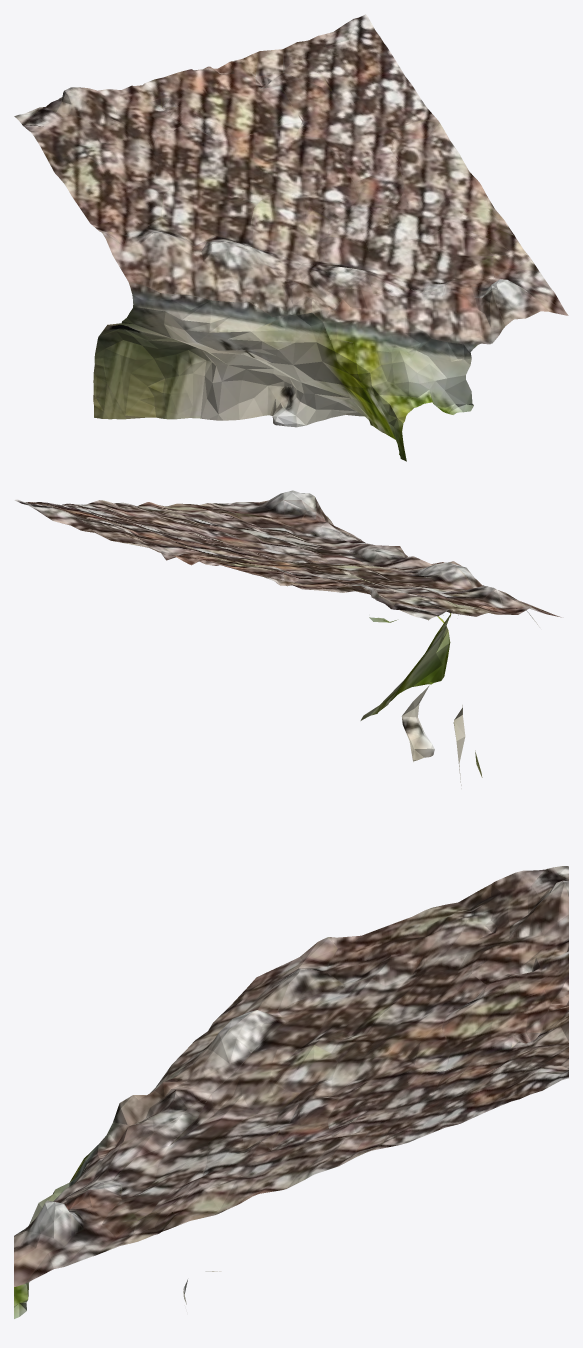
3 views of the same model, one above another, from view 1: azimuth 30°, elevation 25°; view 2: azimuth 150°, elevation 25°; view 3: azimuth 270°, elevation 25° (orthographic). The views are drawn at different scales.
Bounding box in the file's own units: 3.35 × 2.36 × 3.35.
3 materials, 3 textured.
